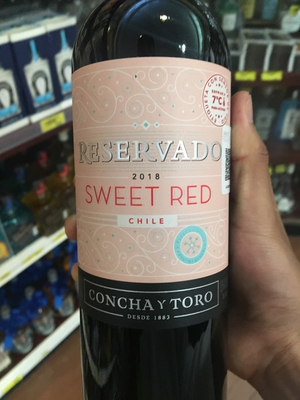reservado sweet red: (62, 14, 252, 380)
